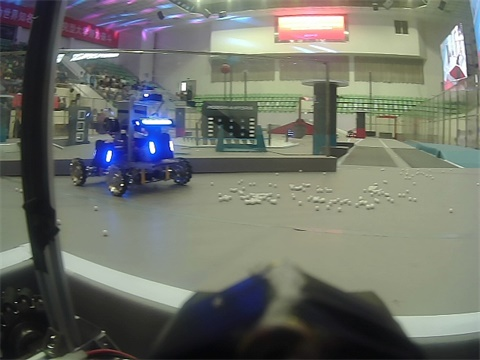chariot: (78, 88, 190, 213)
